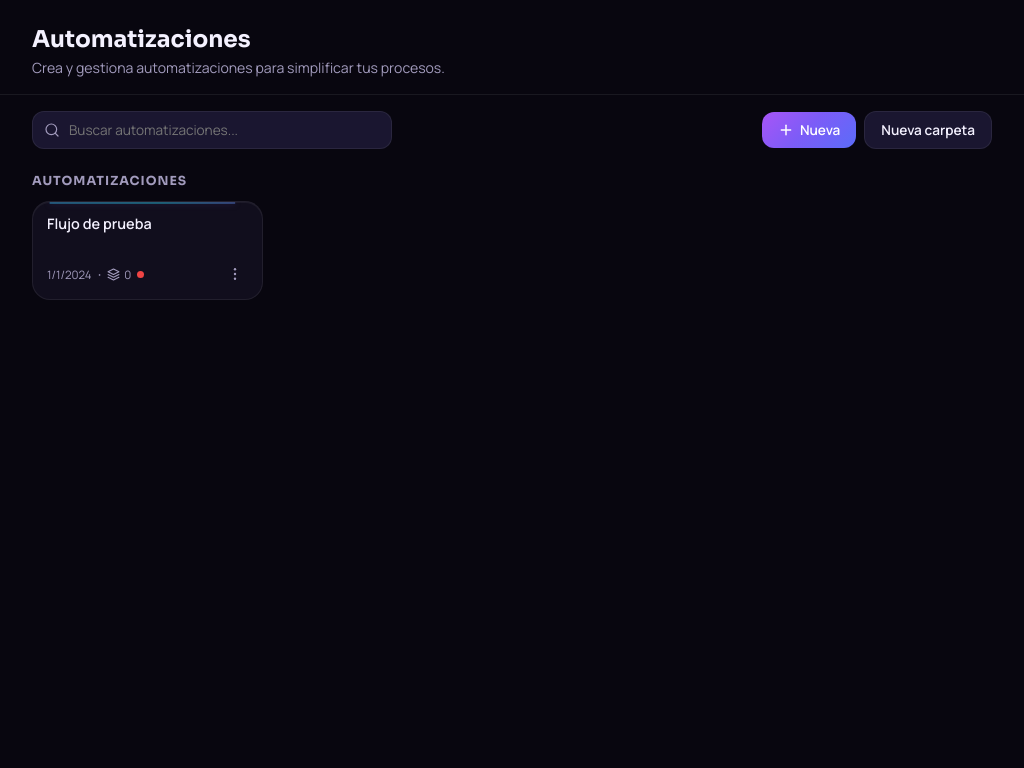
Test case: AutomationsHubPage — carga inicial vs revalidación › una revalidación fallida conserva los datos anteriores y avisa
Expected: the text "Flujo de prueba" is shown, [47, 214, 152, 234]
Click the button "Nueva carpeta" at [928, 130], box [864, 111, 992, 149]
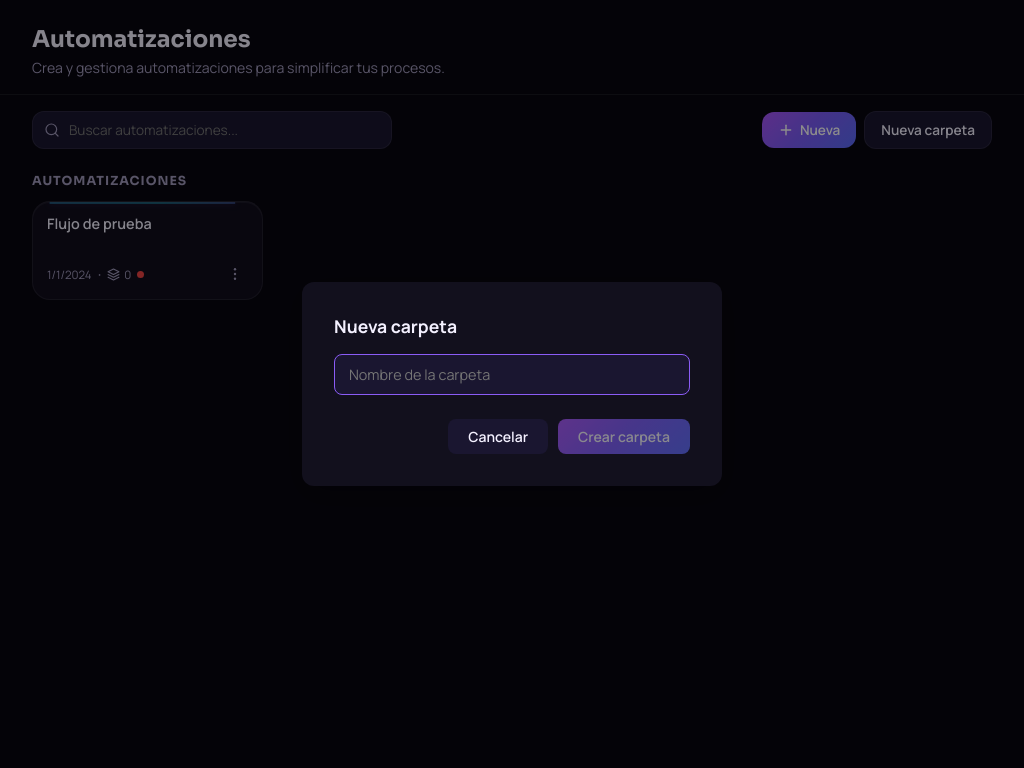
Type "Ventas" into the field labelled "Nombre de la carpeta" at [512, 374], box [334, 354, 690, 395]
Then press Enter
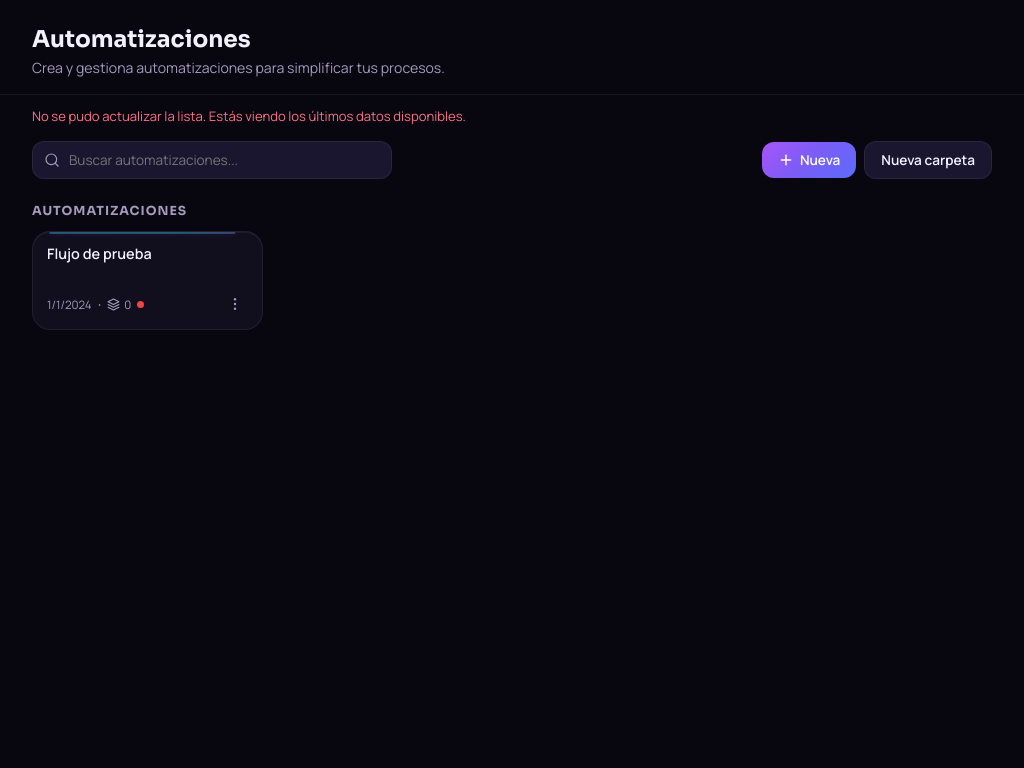
Expected: the text "Flujo de prueba" is shown, [47, 244, 152, 264]
Expected: the message shows "últimos datos disponibles", [32, 107, 466, 125]
